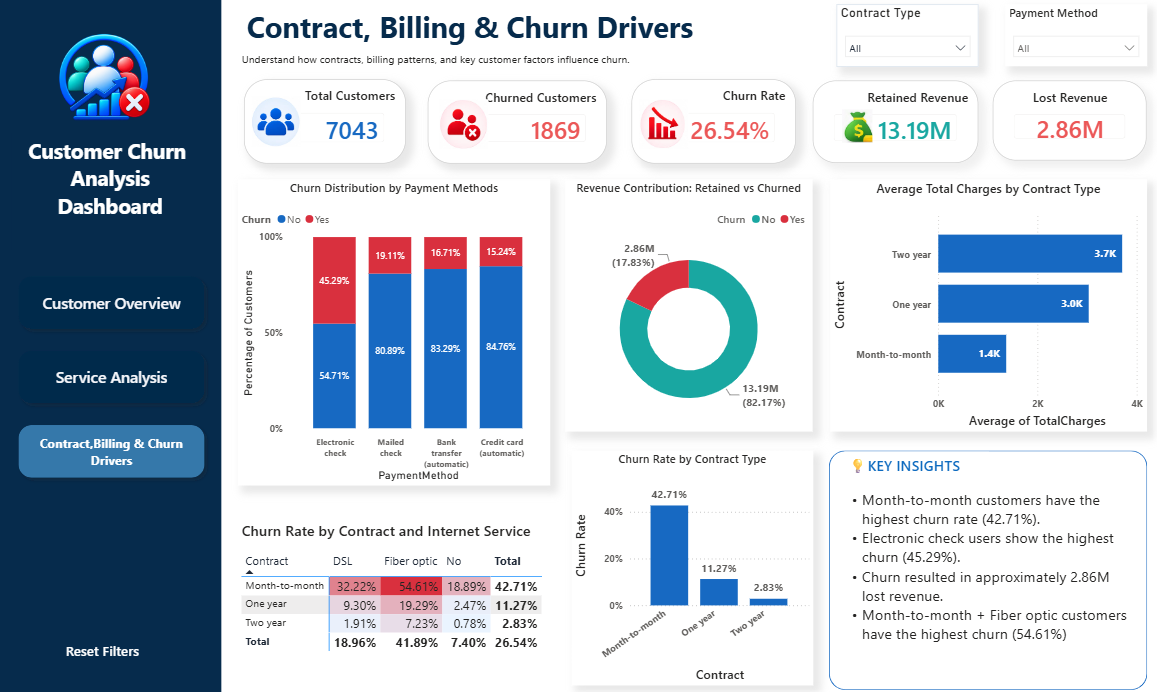

What the dashboard file says about the page in this screenshot:
{"tool":"powerbi","page":{"name":"Contract,Billing & Churn Drivers","canvas":[1500,900],"ordinal":2},"visuals":[{"type":"shape","box":[0,0,286.9,900],"z":0},{"type":"slicer","title":"Contract Type","fields":{"Values":["Telco-Customer-Churn.Contract"]},"box":[1081,8.6,183.4,80.7],"z":1000},{"type":"slicer","title":"Payment Method","fields":{"Values":["Telco-Customer-Churn.PaymentMethod"]},"box":[1298.3,8.6,183.1,80],"z":2000},{"type":"textbox","box":[314,6,655.4,66],"z":3000},{"type":"textbox","box":[308,64,655.8,39.6],"z":4000},{"type":"columnChart","title":"Churn Rate by Contract  Type","fields":{"Category":["Telco-Customer-Churn.Contract"],"Y":["Telco-Customer-Churn.Churn Rate"]},"box":[737.9,584.5,312.1,303.4],"z":5000},{"type":"hundredPercentStackedColumnChart","title":"Churn Distribution by Payment Methods","fields":{"Category":["Telco-Customer-Churn.PaymentMethod"],"Y":["CountNonNull(Telco-Customer-Churn.customerID)"],"Series":["Telco-Customer-Churn.Churn"]},"box":[308.6,234.5,403.4,394.8],"z":6000},{"type":"barChart","title":"Average Total Charges by Contract Type","fields":{"Category":["Telco-Customer-Churn.Contract"],"Y":["Avg(Telco-Customer-Churn.TotalCharges)"]},"box":[1072.4,234.5,408.6,325.9],"z":7000},{"type":"donutChart","title":"Revenue Contribution: Retained vs Churned","fields":{"Category":["Telco-Customer-Churn.Churn"],"Y":["Sum(Telco-Customer-Churn.TotalCharges)"]},"box":[731,234.5,319,325.9],"z":8000},{"type":"pivotTable","title":"Churn Rate by Contract and Internet Service","fields":{"Rows":["Telco-Customer-Churn.Contract"],"Columns":["Telco-Customer-Churn.InternetService"],"Values":["Telco-Customer-Churn.Churn Rate"]},"box":[308.6,674.1,403.4,213.8],"z":9000},{"type":"cardVisual","title":"Retained Revenue","fields":{"Data":["Telco-Customer-Churn.Retained Revenue"]},"box":[1050.8,106.2,213.8,106.2],"z":10000},{"type":"cardVisual","title":"Lost Revenue","fields":{"Data":["Telco-Customer-Churn.Lost Revenue"]},"box":[1282,106,198.6,102.9],"z":11000},{"type":"image","box":[63.8,34.5,140,140],"z":13000},{"type":"textbox","box":[15.5,174.1,254.3,150],"z":14000},{"type":"pageNavigator","box":[16.1,350,258.9,278.6],"z":15000},{"type":"actionButton","box":[20.7,806.9,225,70],"z":16000},{"type":"cardVisual","title":"Total Customers","fields":{"Data":["Telco-Customer-Churn.Total Customers"]},"box":[315.5,105.2,208.6,108.6],"z":17000},{"type":"cardVisual","title":"Churned Customers","fields":{"Data":["Telco-Customer-Churn.Churned Customers"]},"box":[553.4,106.9,231,106.9],"z":18000},{"type":"cardVisual","title":"Churn Rate","fields":{"Data":["Telco-Customer-Churn.Churn Rate"]},"box":[815.5,105.2,212.1,108.6],"z":19000},{"type":"image","box":[337.5,137.5,82.1,60.7],"z":20000},{"type":"image","box":[575,137.5,82.8,63.8],"z":21000},{"type":"image","box":[815.5,131,82.8,63.8],"z":22000},{"type":"shape","box":[1071.4,583.9,410.7,308.9],"z":24001},{"type":"textbox","box":[1091.1,585.7,186.2,43.1],"z":24003},{"type":"textbox","box":[1080.4,628.6,389.3,248.2],"z":24004},{"type":"image","box":[1058.9,130.4,64.3,67.9],"z":24005},{"type":"image","box":[1282.1,132.1,71.4,66.1],"z":24006}]}

Visuals, with their boxes on the page's 1500x900 design canvas (x1, y1, x2, y2). These are canvas units, not pixel positions in the 1157x692 screenshot, which may show the page scaled, cropped or inside an application window:
shape: locate(0, 0, 287, 900)
"Contract Type" slicer: locate(1081, 9, 1264, 89)
"Payment Method" slicer: locate(1298, 9, 1481, 89)
textbox: locate(314, 6, 969, 72)
textbox: locate(308, 64, 964, 104)
"Churn Rate by Contract  Type" columnChart: locate(738, 584, 1050, 888)
"Churn Distribution by Payment Methods" hundredPercentStackedColumnChart: locate(309, 234, 712, 629)
"Average Total Charges by Contract Type" barChart: locate(1072, 234, 1481, 560)
"Revenue Contribution: Retained vs Churned" donutChart: locate(731, 234, 1050, 560)
"Churn Rate by Contract and Internet Service" pivotTable: locate(309, 674, 712, 888)
"Retained Revenue" cardVisual: locate(1051, 106, 1265, 212)
"Lost Revenue" cardVisual: locate(1282, 106, 1481, 209)
image: locate(64, 34, 204, 174)
textbox: locate(16, 174, 270, 324)
pageNavigator: locate(16, 350, 275, 629)
actionButton: locate(21, 807, 246, 877)
"Total Customers" cardVisual: locate(316, 105, 524, 214)
"Churned Customers" cardVisual: locate(553, 107, 784, 214)
"Churn Rate" cardVisual: locate(816, 105, 1028, 214)
image: locate(338, 138, 420, 198)
image: locate(575, 138, 658, 201)
image: locate(816, 131, 898, 195)
shape: locate(1071, 584, 1482, 893)
textbox: locate(1091, 586, 1277, 629)
textbox: locate(1080, 629, 1470, 877)
image: locate(1059, 130, 1123, 198)
image: locate(1282, 132, 1354, 198)
